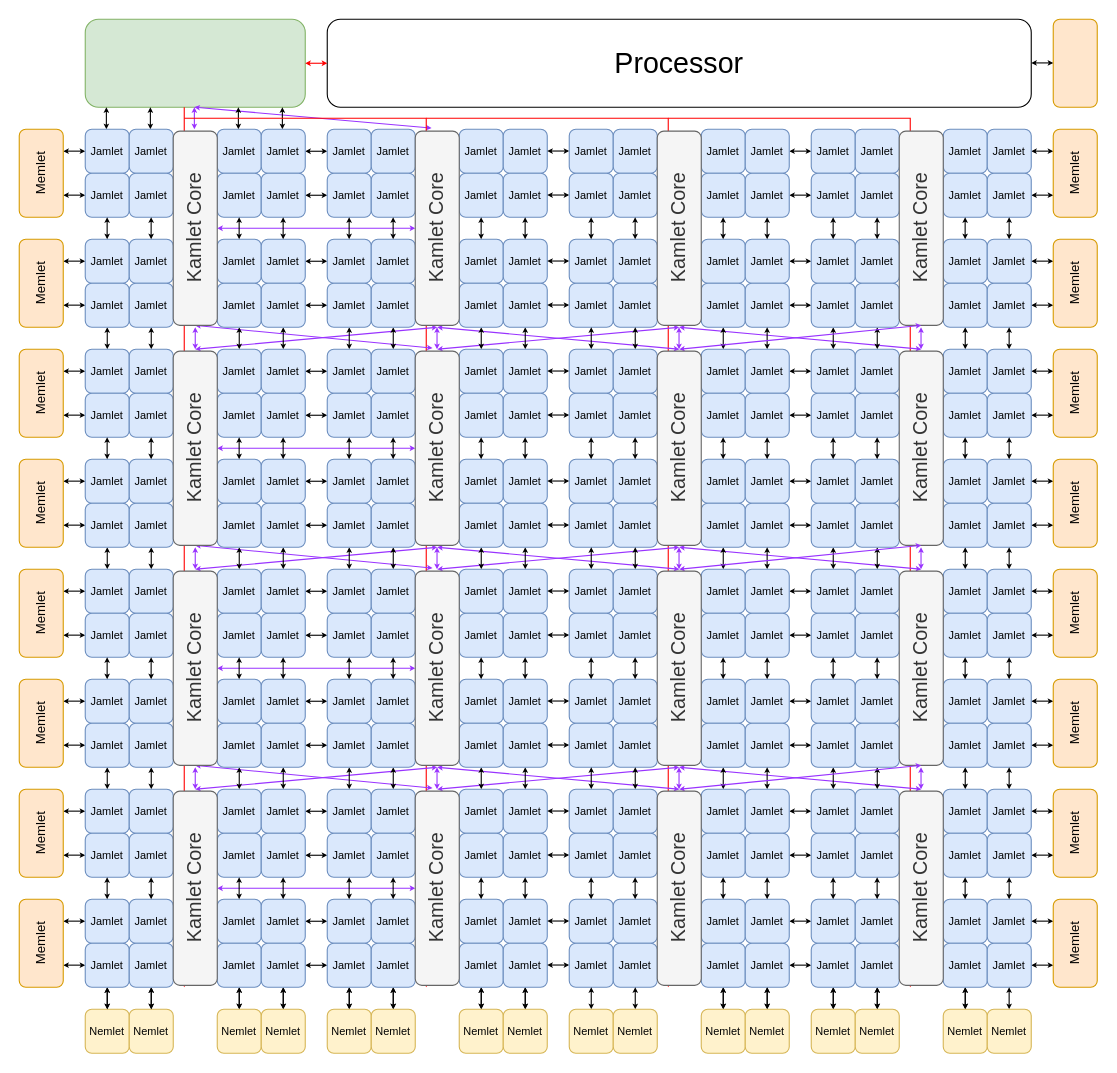
The diagram is 1117 pixels wide and 1073 high, and some of its shapes have lost their labels. Each missing label, with the centre of its shape:
"Lamlet" belongs at [194,62].
"Memory Interface" belongs at [1074,62].
